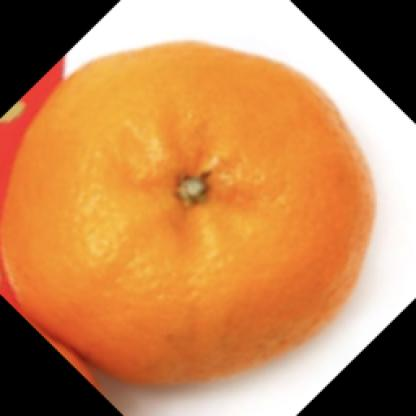fresh: (7, 43, 375, 381)
